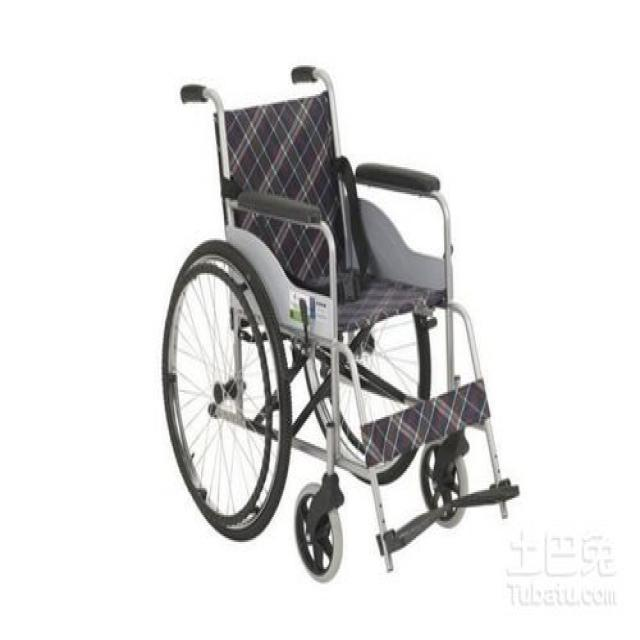wheelchair: (159, 58, 521, 592)
